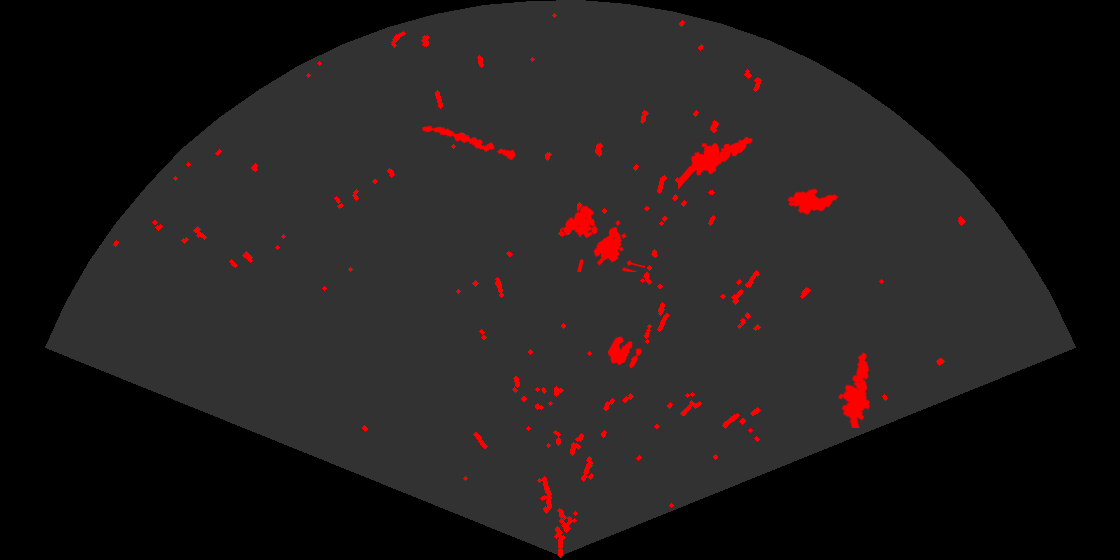AUV: (786, 187, 840, 216)
ball: (606, 335, 644, 370)
cage: (561, 204, 645, 272)
chain: (420, 124, 518, 162)
frogman: (678, 135, 754, 191), (837, 351, 872, 428)
